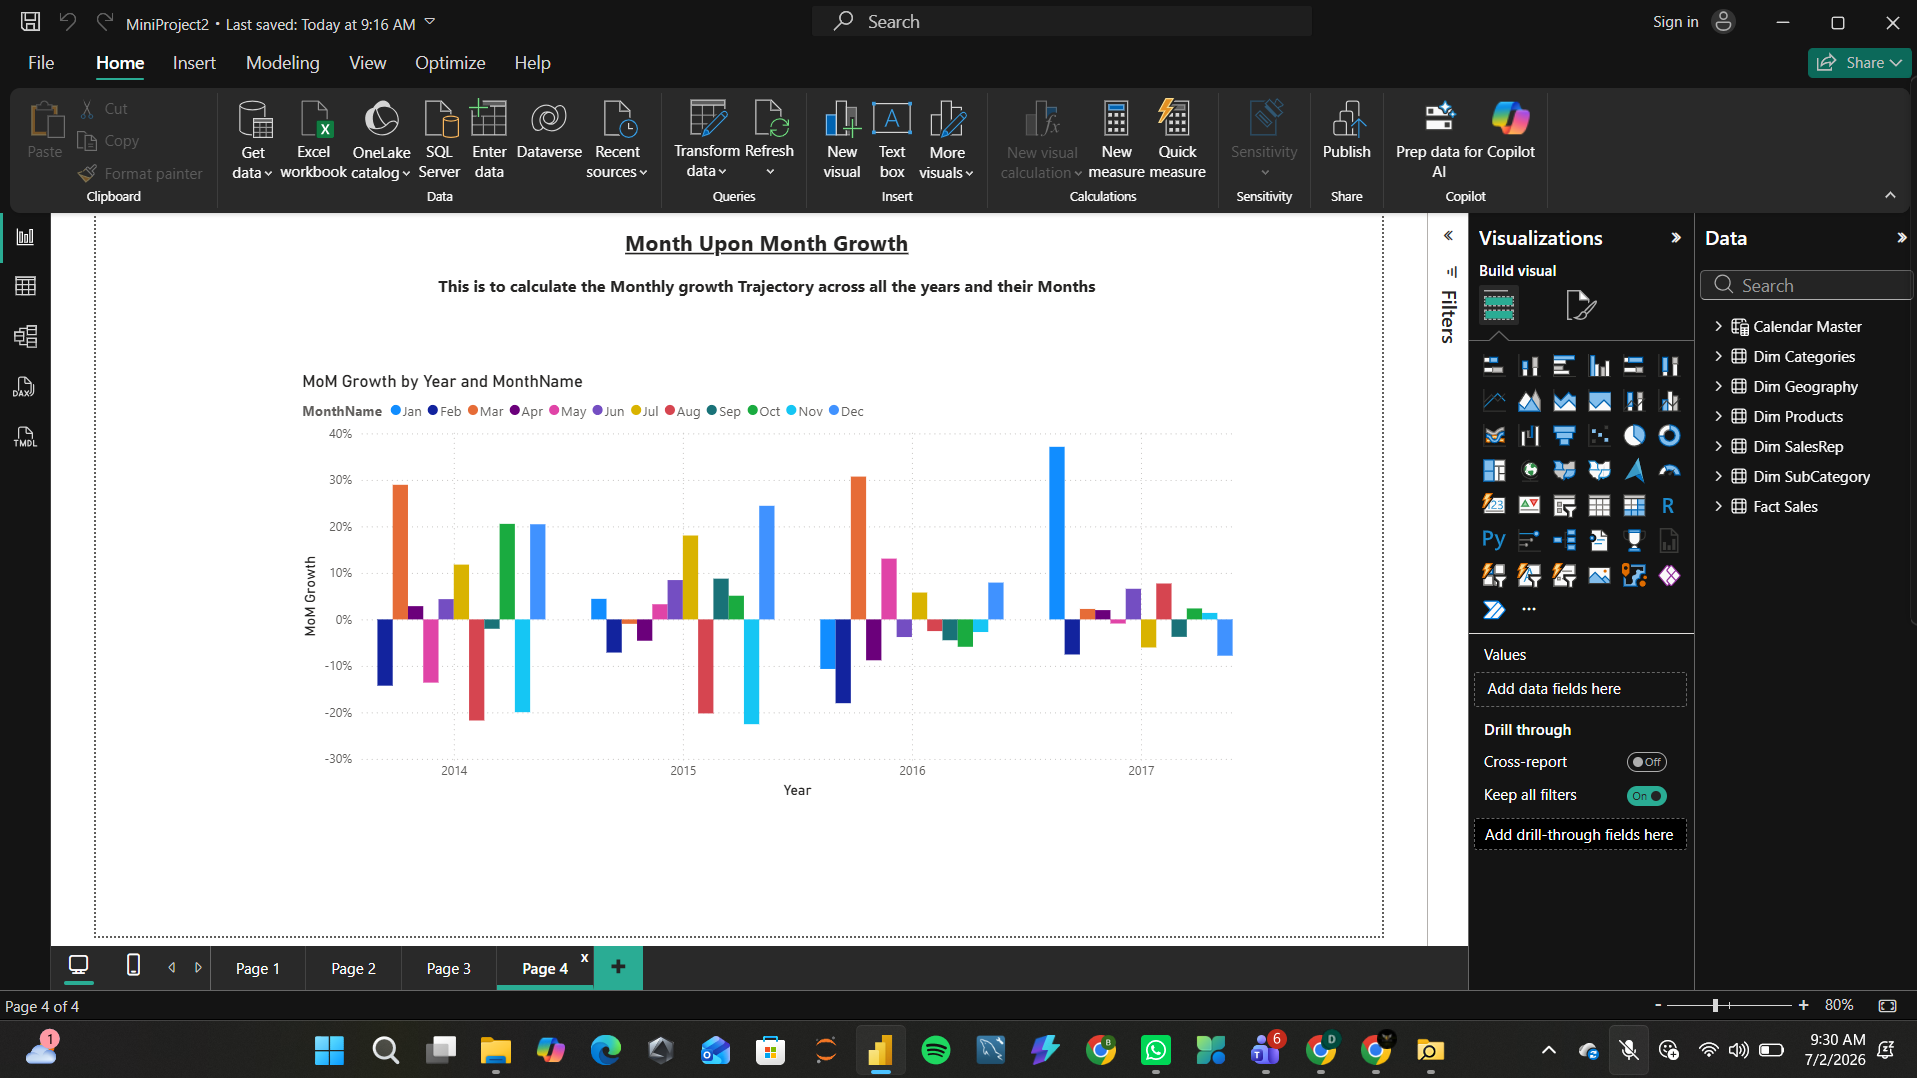

Layout of this report page (visuals, bound fields, positions):
{"tool":"powerbi","page":{"name":"Page 4","canvas":[1280,720],"ordinal":3},"visuals":[{"type":"textbox","box":[322.1,10.5,690.7,82.6],"z":0},{"type":"clusteredColumnChart","fields":{"Category":["Calendar Master.Year"],"Series":["Calendar Master.MonthName"],"Y":["Fact Sales.MoM Growth"]},"box":[200,157,936,430.2],"z":1000}]}

Visuals, with their boxes on the page's 1280x720 design canvas (x1, y1, x2, y2). These are canvas units, not pixel positions in the 1917x1078 screenshot, which may show the page scaled, cropped or inside an application window:
textbox: [322, 10, 1013, 93]
clusteredColumnChart - Calendar Master.Year x Calendar Master.MonthName: [200, 157, 1136, 587]
